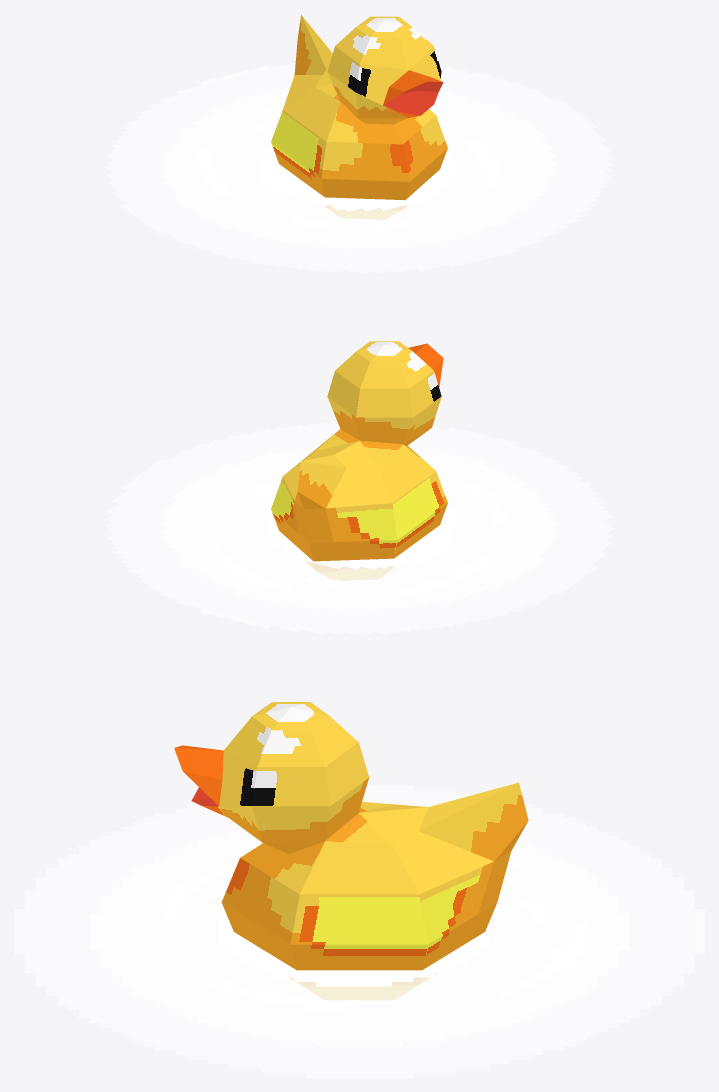
The model's file is rubber_duck(1).glb.
3 renders of one model, top to bottom at view 1: azimuth 30°, elevation 25°; view 2: azimuth 150°, elevation 25°; view 3: azimuth 270°, elevation 25°, orthographic. The views are drawn at different scales.
Visible parts, largest first — view 1: Plane_1, Sphere_0; view 2: Plane_1, Sphere_0; view 3: Plane_1, Sphere_0.
Part boxes in pixels (x1,y1,x2,y2): Plane_1: (105, 63, 613, 273); Sphere_0: (271, 15, 447, 218); Plane_1: (105, 421, 613, 635); Sphere_0: (271, 341, 447, 579); Plane_1: (14, 786, 704, 1077); Sphere_0: (174, 702, 528, 999).
Bounding box in the file's own units: 6 × 2.72 × 6.
2 materials, 2 textured.
